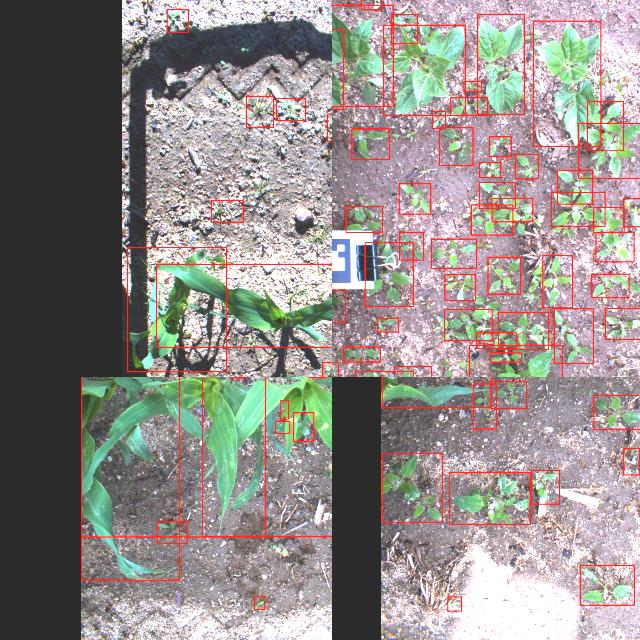crop: (81, 377, 265, 537), (202, 377, 332, 537), (80, 377, 179, 579), (156, 264, 332, 347), (128, 248, 226, 372), (533, 21, 601, 146), (383, 24, 465, 116), (332, 4, 392, 105), (478, 14, 524, 114), (469, 345, 562, 377), (332, 29, 343, 109)
weed: (448, 472, 530, 524), (382, 453, 442, 522), (578, 123, 640, 178), (365, 242, 413, 306), (554, 308, 594, 364), (580, 565, 634, 605), (499, 312, 549, 350), (551, 192, 605, 226), (588, 101, 624, 150), (543, 255, 573, 308), (594, 395, 640, 429), (444, 310, 492, 340), (432, 239, 476, 269), (439, 128, 473, 166), (471, 205, 513, 235), (557, 170, 593, 204), (488, 258, 520, 294), (351, 129, 389, 159), (596, 232, 634, 262), (605, 308, 640, 339), (472, 384, 496, 428), (399, 184, 431, 214), (492, 198, 532, 222), (531, 470, 559, 504), (479, 182, 515, 208), (346, 207, 382, 233), (592, 274, 630, 298), (246, 96, 274, 128), (492, 382, 526, 408), (391, 14, 417, 44), (445, 274, 475, 300), (594, 208, 624, 232), (211, 200, 243, 222), (450, 97, 488, 115), (399, 232, 423, 260), (276, 98, 306, 120), (157, 521, 187, 543), (476, 333, 516, 349), (294, 412, 314, 442), (344, 346, 381, 362), (516, 155, 538, 179), (166, 10, 188, 32), (624, 199, 640, 227), (624, 448, 640, 476), (489, 137, 511, 157), (394, 366, 432, 377), (332, 290, 345, 322), (479, 162, 501, 178), (491, 352, 522, 362), (377, 318, 399, 332), (432, 112, 446, 128), (361, 0, 381, 10), (447, 597, 461, 611), (463, 81, 481, 91), (276, 421, 290, 433), (280, 400, 288, 420), (322, 362, 332, 377), (327, 114, 332, 142), (254, 596, 264, 610)
